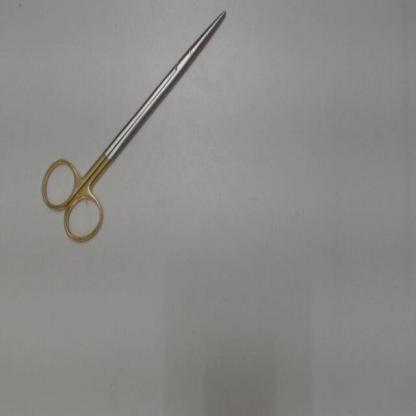7 Metzenbaum Scissors: (38, 7, 231, 250)
